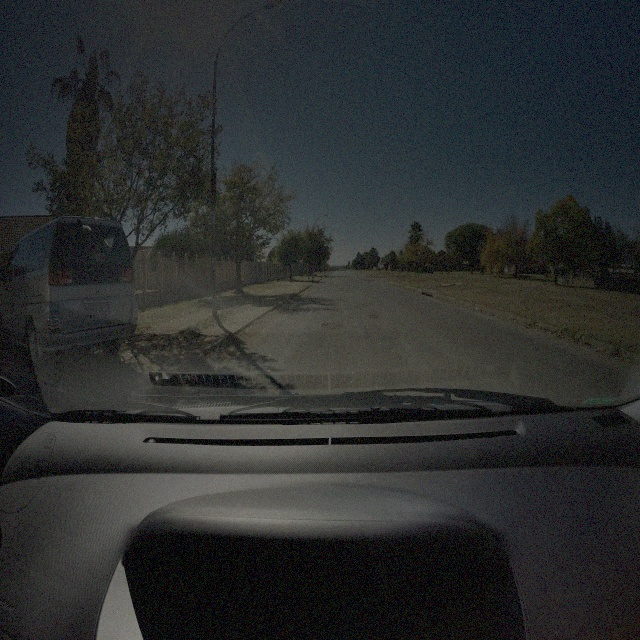pothole: (321, 321, 340, 332), (370, 314, 379, 320)
